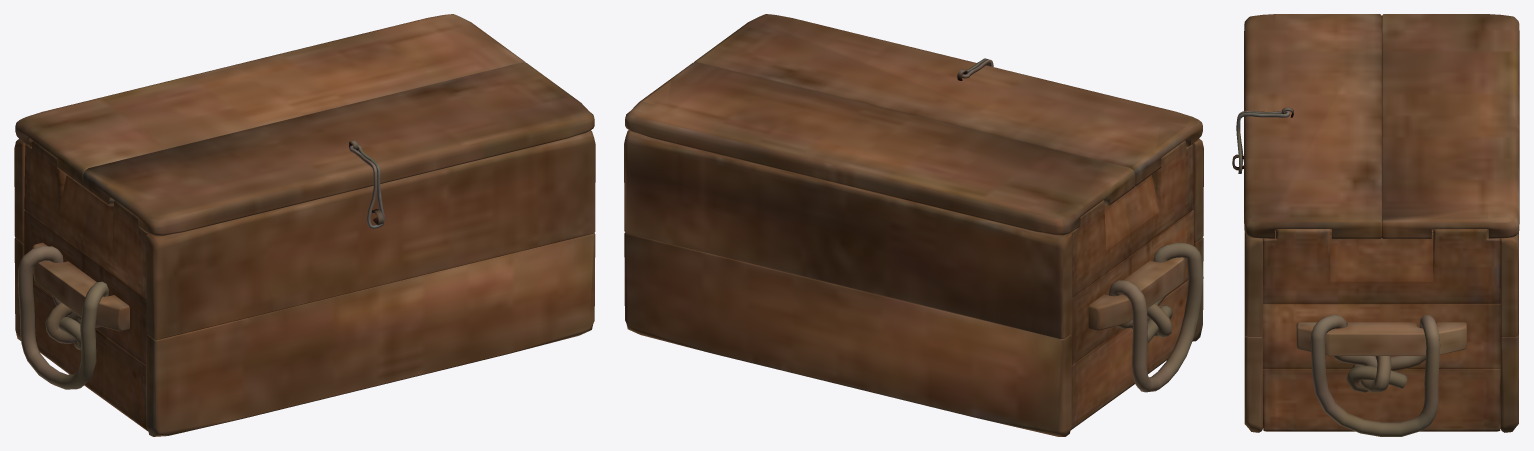
File: wooden_crate_01.glb
3 views of the same model, side by side, from view 1: azimuth 30°, elevation 25°; view 2: azimuth 150°, elevation 25°; view 3: azimuth 270°, elevation 25° (orthographic). The views are drawn at different scales.
Visible parts, largest first — view 1: wooden_crate_01, wooden_crate_01_lid, wooden_crate_01_latch; view 2: wooden_crate_01, wooden_crate_01_lid; view 3: wooden_crate_01_lid, wooden_crate_01, wooden_crate_01_latch.
Boxes of the visible parts, box(x1,y1,x2,y2) form: wooden_crate_01: box(14, 130, 595, 436); wooden_crate_01_lid: box(15, 14, 594, 236); wooden_crate_01_latch: box(349, 145, 384, 228); wooden_crate_01: box(624, 130, 1203, 436); wooden_crate_01_lid: box(625, 14, 1202, 235); wooden_crate_01_lid: box(1244, 14, 1519, 238); wooden_crate_01: box(1232, 154, 1518, 436); wooden_crate_01_latch: box(1236, 111, 1289, 173).
Size of the model in its own units: 0.8253 by 0.3496 by 0.409.
1 material, 1 textured.
